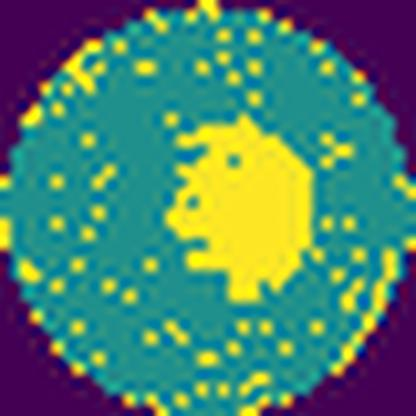Center: (169, 112, 318, 306)
